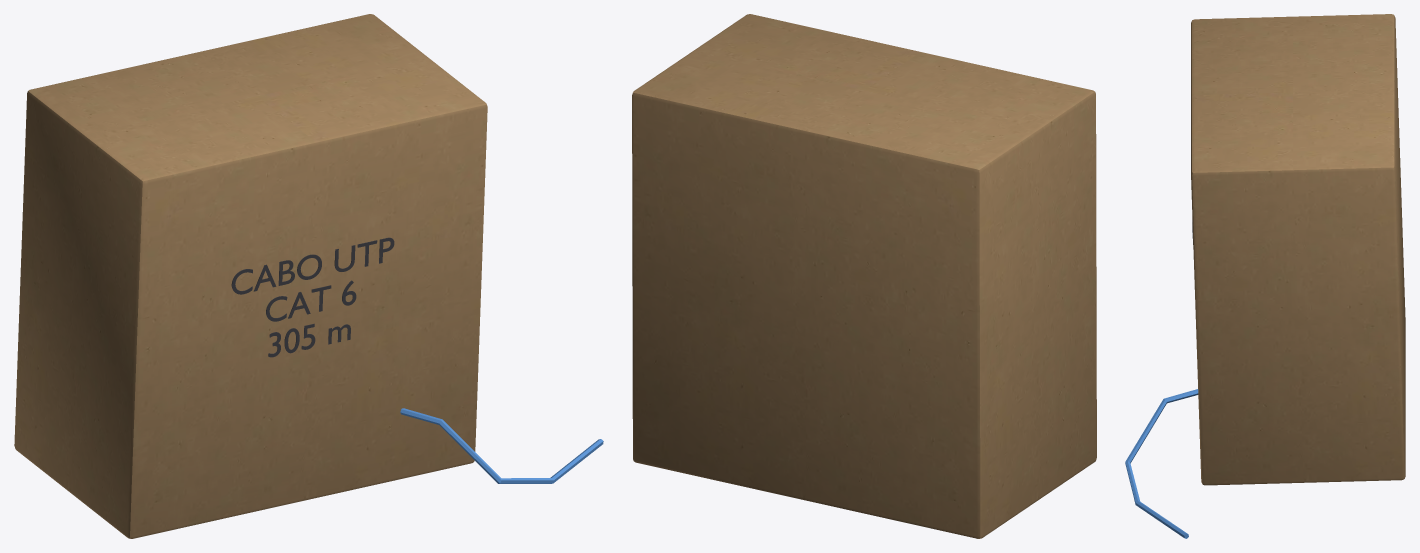
File: ELE-LOG-001_anim.glb
3 renders of one model, left to right at view 1: azimuth 30°, elevation 25°; view 2: azimuth 150°, elevation 25°; view 3: azimuth 270°, elevation 25°, orthographic. The views are drawn at different scales.
Visible parts, largest first — view 1: ELE-LOG-001_anim0; view 2: ELE-LOG-001_anim0; view 3: ELE-LOG-001_anim0.
Part boxes in pixels (bbox=[...]): ELE-LOG-001_anim0: bbox=[14, 14, 603, 538]; ELE-LOG-001_anim0: bbox=[632, 14, 1096, 538]; ELE-LOG-001_anim0: bbox=[1125, 14, 1405, 538].
Size of the model in its own units: 0.4813 by 0.3759 by 0.2879.
Materials: 3 (1 with a texture image).
